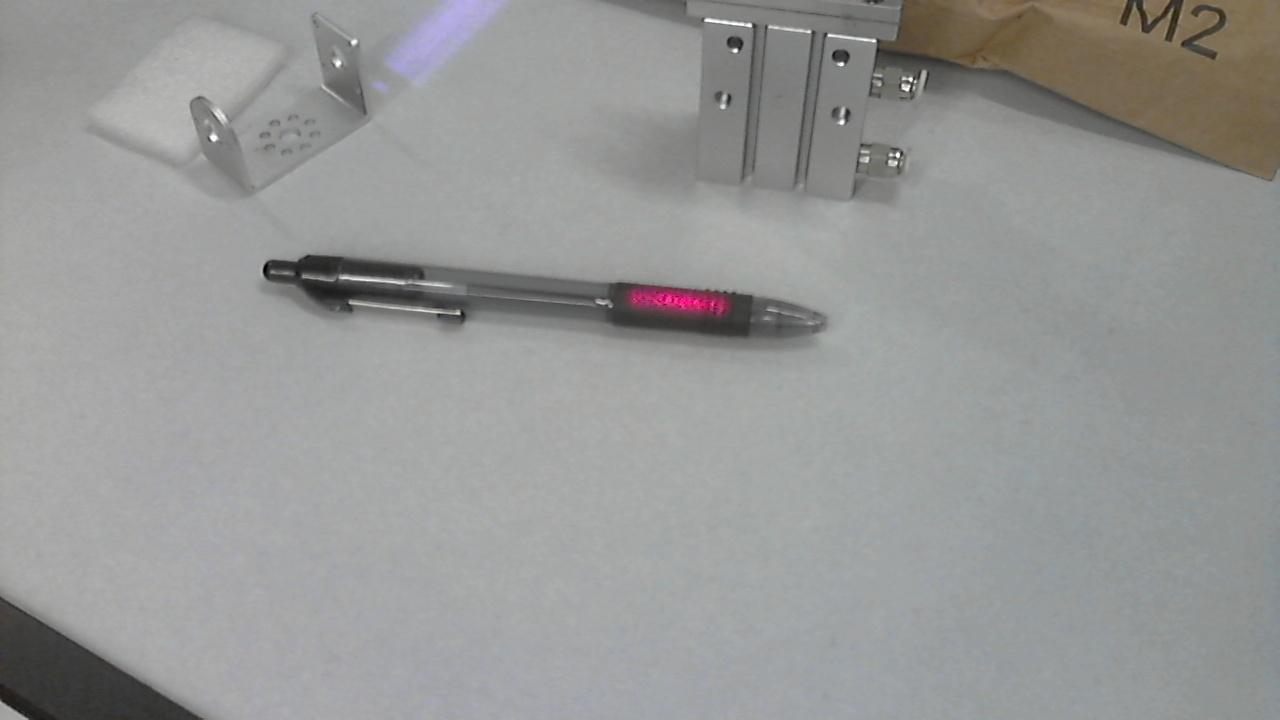Object retractable gel pen - Material rubber - Pdfname asdasdaswe: (621, 284, 735, 320)
